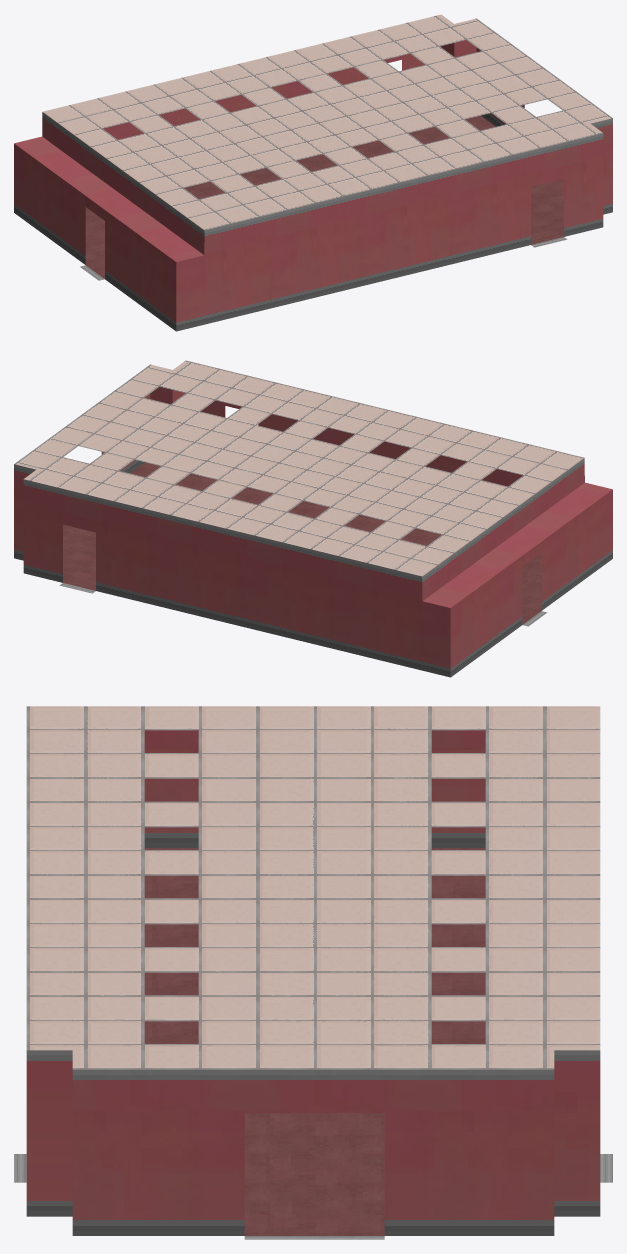
Rendered from DeathFloor_lobby.fbx.
3 renders of one model, top to bottom at view 1: azimuth 30°, elevation 25°; view 2: azimuth 150°, elevation 25°; view 3: azimuth 270°, elevation 25°, orthographic. The views are drawn at different scales.
Parts seen in each view (by area): view 1: StartingLobby, StartingLobby.Ceiling; view 2: StartingLobby, StartingLobby.Ceiling; view 3: StartingLobby.Ceiling, StartingLobby.
Part boxes in pixels (box(x1,y1,x2,y2)): StartingLobby: box(14, 40, 612, 331); StartingLobby.Ceiling: box(42, 14, 612, 230); StartingLobby: box(14, 386, 612, 677); StartingLobby.Ceiling: box(14, 360, 584, 576); StartingLobby.Ceiling: box(26, 706, 600, 1069); StartingLobby: box(14, 730, 612, 1239).
Bounding box in the file's own units: 16.37 × 3.2 × 10.44.
